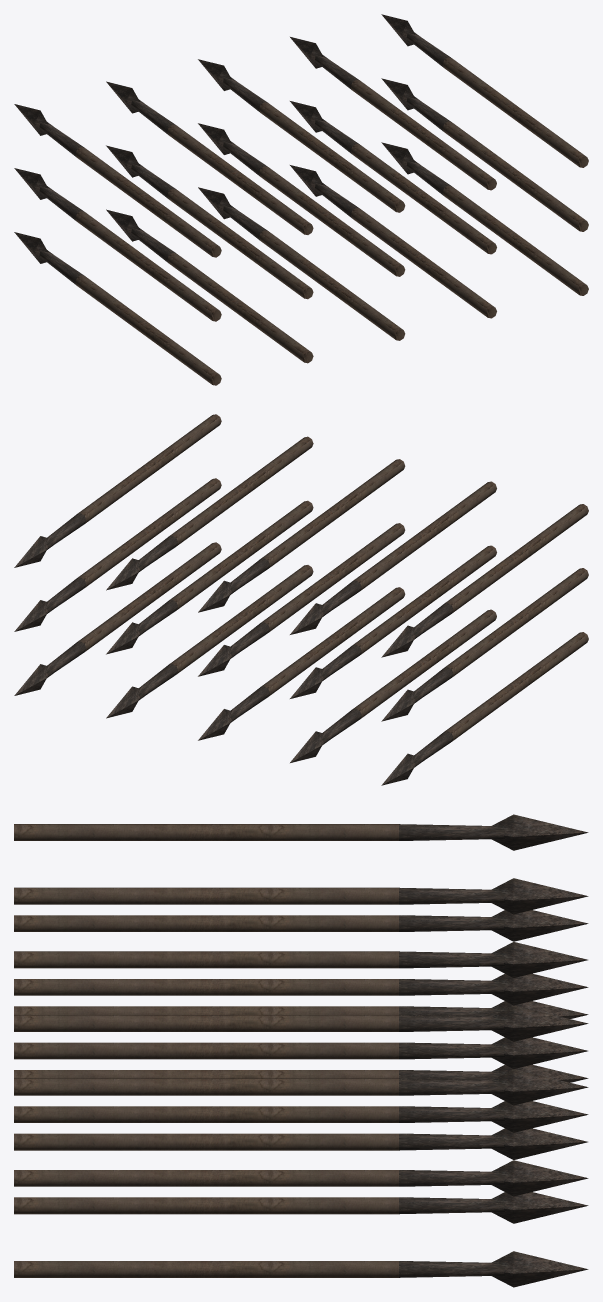
Rendered from Spears.FBX.
3 renders of one model, top to bottom at view 1: azimuth 30°, elevation 25°; view 2: azimuth 150°, elevation 25°; view 3: azimuth 270°, elevation 25°, orthographic. The views are drawn at different scales.
Parts seen in each view (by area): view 1: Spears; view 2: Spears; view 3: Spears.
Boxes of the visible parts, x1,y1,x2,y2 form: Spears: [14, 14, 588, 385]; Spears: [14, 414, 588, 785]; Spears: [14, 814, 588, 1287].
Size of the model in its own units: 620 by 240 by 572.
